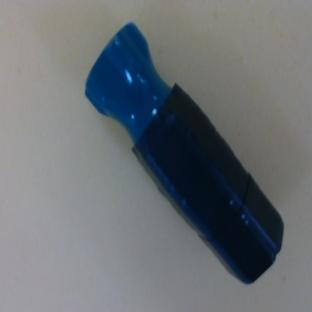part_2_bad: (66, 20, 304, 293)
